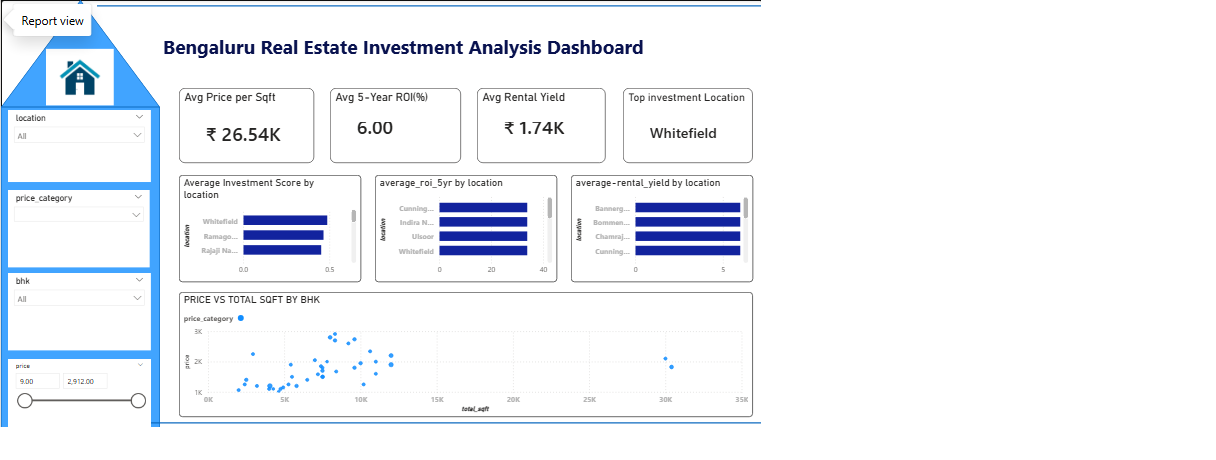

Layout of this report page (visuals, bound fields, positions):
{"tool":"powerbi","page":{"name":"Page 1","canvas":[1280,720],"ordinal":0},"visuals":[{"type":"cardVisual","title":"Avg Rental Yield","fields":{"Data":["Table.average_price"]},"box":[799.7,147.6,215.9,125.6],"z":0},{"type":"cardVisual","title":"Avg Price per Sqft","fields":{"Data":["Table.average_price_per_sqft"]},"box":[299.6,147.6,226.9,125.6],"z":1000},{"type":"cardVisual","title":"Avg 5-Year ROI(%)","fields":{"Data":["Table.average-rental_yield"]},"box":[553,147.6,220.3,125.6],"z":2000},{"type":"cardVisual","title":"Top investment Location","fields":{"Data":["Table.Best Location"]},"box":[1044.8,147.8,218.4,126],"z":3000},{"type":"shape","box":[0,179.7,267.1,540.9],"z":4000},{"type":"shape","box":[0,0,267.1,179.7],"z":5000},{"type":"clusteredBarChart","fields":{"Category":["Cleaned_Bengaluru_Investment_Data.location"],"Y":["Table.Average Investment Score"]},"box":[299,294,305.7,179.7],"z":6000},{"type":"clusteredBarChart","fields":{"Category":["Cleaned_Bengaluru_Investment_Data.location"],"Y":["Table.average-rental_yield"]},"box":[957.5,294,305.7,179.7],"z":7000},{"type":"clusteredBarChart","fields":{"Category":["Cleaned_Bengaluru_Investment_Data.location"],"Y":["Table.average_roi_5yr"]},"box":[628.2,294,305.7,179.7],"z":8000},{"type":"scatterChart","title":"PRICE VS TOTAL SQFT BY BHK","fields":{"Series":["Cleaned_Bengaluru_Investment_Data.price_category"],"X":["Cleaned_Bengaluru_Investment_Data.total_sqft"],"Y":["Cleaned_Bengaluru_Investment_Data.price"],"Size":["Avg(Cleaned_Bengaluru_Investment_Data.bhk)"]},"box":[299,490.5,964.2,210],"z":9000},{"type":"shape","box":[11,700.6,1269,19.8],"z":10000},{"type":"slicer","fields":{"Values":["Cleaned_Bengaluru_Investment_Data.location"]},"box":[11,185.1,240.1,121.2],"z":11000},{"type":"slicer","fields":{"Values":["Cleaned_Bengaluru_Investment_Data.price_category"]},"box":[11,319.4,237.9,130],"z":12000},{"type":"slicer","fields":{"Values":["Cleaned_Bengaluru_Investment_Data.bhk"]},"box":[11,458.2,240.1,130],"z":13000},{"type":"slicer","fields":{"Values":["Cleaned_Bengaluru_Investment_Data.price"]},"box":[11,603.6,240.1,116.8],"z":14000},{"type":"image","box":[75.6,47,114.2,164.6],"z":15000},{"type":"shape","box":[160.8,0,1119.2,19.8],"z":16000},{"type":"textbox","box":[266.6,50.7,1013.4,79.3],"z":17000}]}

Visuals, with their boxes on the page's 1280x720 design canvas (x1, y1, x2, y2). These are canvas units, not pixel positions in the 1216x460 screenshot, which may show the page scaled, cropped or inside an application window:
"Avg Rental Yield" cardVisual: [x1=800, y1=148, x2=1016, y2=273]
"Avg Price per Sqft" cardVisual: [x1=300, y1=148, x2=526, y2=273]
"Avg 5-Year ROI(%)" cardVisual: [x1=553, y1=148, x2=773, y2=273]
"Top investment Location" cardVisual: [x1=1045, y1=148, x2=1263, y2=274]
shape: [x1=0, y1=180, x2=267, y2=721]
shape: [x1=0, y1=0, x2=267, y2=180]
clusteredBarChart - Cleaned_Bengaluru_Investment_Data.location x Table.Average Investment Score: [x1=299, y1=294, x2=605, y2=474]
clusteredBarChart - Cleaned_Bengaluru_Investment_Data.location x Table.average-rental_yield: [x1=958, y1=294, x2=1263, y2=474]
clusteredBarChart - Cleaned_Bengaluru_Investment_Data.location x Table.average_roi_5yr: [x1=628, y1=294, x2=934, y2=474]
"PRICE VS TOTAL SQFT BY BHK" scatterChart: [x1=299, y1=490, x2=1263, y2=700]
shape: [x1=11, y1=701, x2=1280, y2=720]
slicer - Cleaned_Bengaluru_Investment_Data.location: [x1=11, y1=185, x2=251, y2=306]
slicer - Cleaned_Bengaluru_Investment_Data.price_category: [x1=11, y1=319, x2=249, y2=449]
slicer - Cleaned_Bengaluru_Investment_Data.bhk: [x1=11, y1=458, x2=251, y2=588]
slicer - Cleaned_Bengaluru_Investment_Data.price: [x1=11, y1=604, x2=251, y2=720]
image: [x1=76, y1=47, x2=190, y2=212]
shape: [x1=161, y1=0, x2=1280, y2=20]
textbox: [x1=267, y1=51, x2=1280, y2=130]
